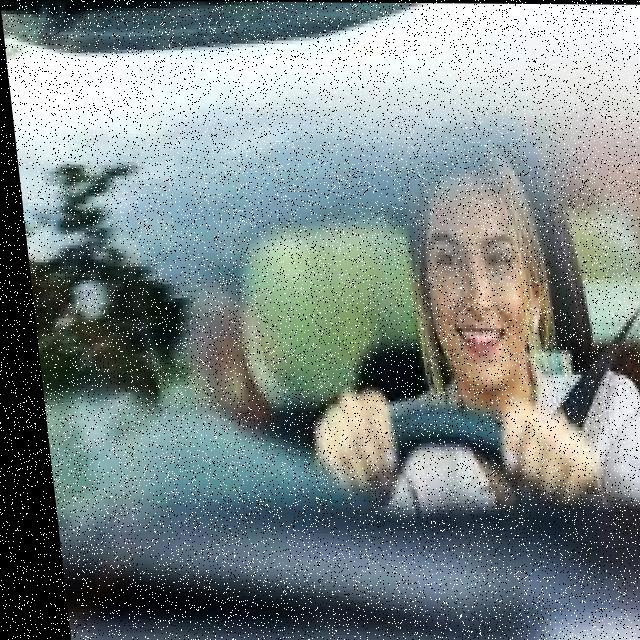seatbelt: (470, 271, 640, 444)
